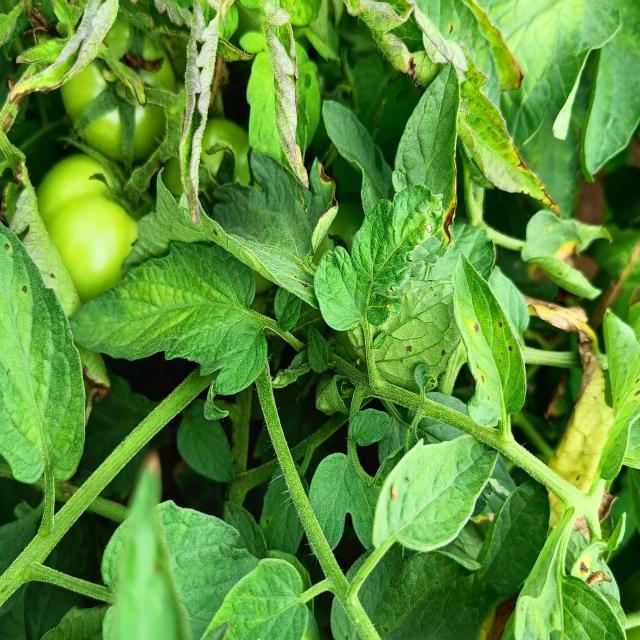Tomato mosaic virus leaf: (1, 226, 87, 484), (448, 250, 528, 432), (391, 55, 463, 252), (252, 152, 340, 308), (387, 316, 457, 396)
